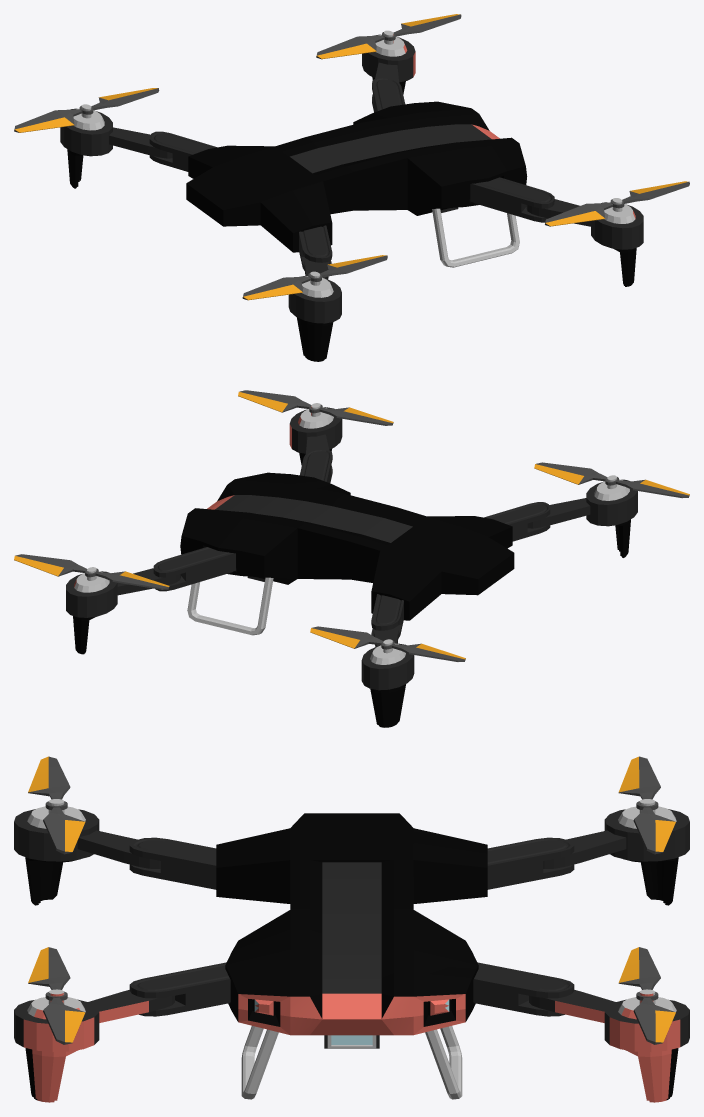
File: uav_quadrotor.glb
3 renders of one model, top to bottom at view 1: azimuth 30°, elevation 25°; view 2: azimuth 150°, elevation 25°; view 3: azimuth 270°, elevation 25°, orthographic. The views are drawn at different scales.
Parts seen in each view (by area): view 1: Body, Rotor_FR, Rotor_BR, Rotor_BL, Rotor_FL; view 2: Body, Rotor_BL, Rotor_BR, Rotor_FR, Rotor_FL; view 3: Body, Rotor_FL, Rotor_FR, Rotor_BL, Rotor_BR, Cube.002.
Boxes of the visible parts, x1,y1,x2,y2 form: Body: (60,30,643,361); Rotor_FR: (545,181,689,226); Rotor_BR: (242,255,387,300); Rotor_BL: (14,88,159,132); Rotor_FL: (316,14,461,59); Body: (66,403,637,727); Rotor_BL: (310,626,465,661); Rotor_BR: (534,462,689,498); Rotor_FR: (238,390,393,425); Rotor_FL: (14,554,169,589); Body: (14,799,689,1102); Rotor_FL: (618,947,675,1044); Rotor_FR: (28,947,85,1044); Rotor_BL: (618,756,675,854); Rotor_BR: (28,756,85,854); Cube.002: (324,1035,379,1048).
Size of the model in its own units: 0.64 by 0.14 by 0.64.
2 materials, 1 textured.
